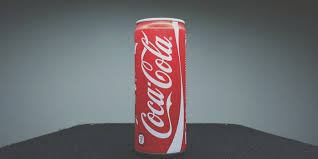coke: (134, 18, 187, 155)
